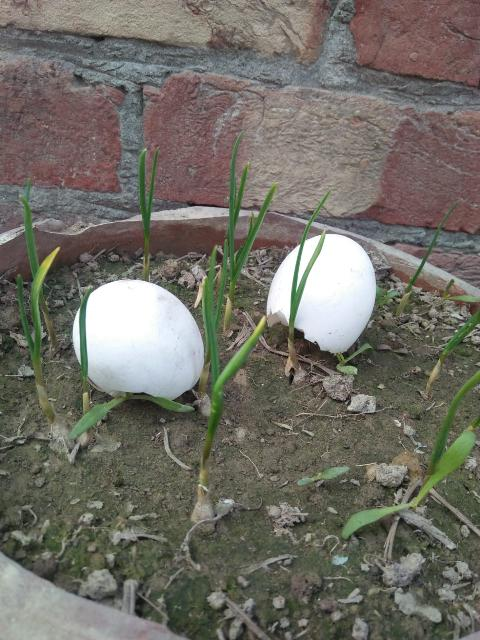Roto: (71, 278, 205, 401), (265, 232, 377, 354)
